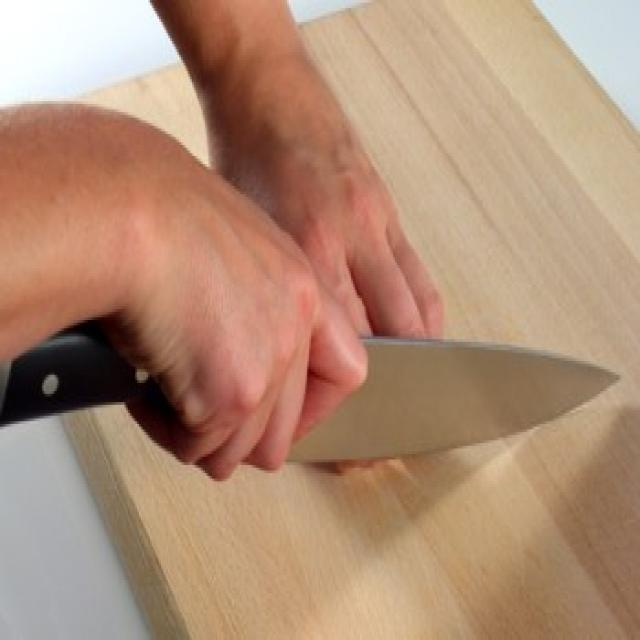knife: (1, 313, 622, 476)
